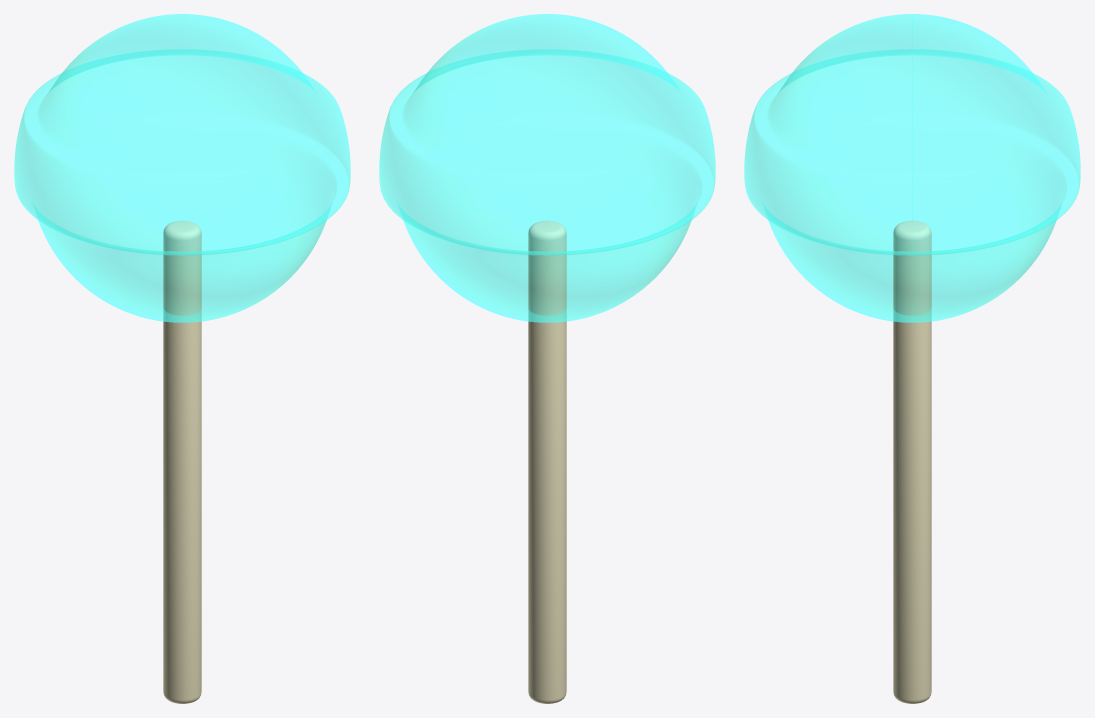
File: Lolly.fbx
3 renders of one model, left to right at view 1: azimuth 30°, elevation 25°; view 2: azimuth 150°, elevation 25°; view 3: azimuth 270°, elevation 25°, orthographic.
Visible parts, largest first — view 1: Kugel, Zylinder; view 2: Kugel, Zylinder; view 3: Kugel, Zylinder.
Part boxes in pixels (left/top/right/bottom): Kugel: left=14, top=14, right=350, bottom=322; Zylinder: left=163, top=220, right=201, bottom=703; Kugel: left=379, top=14, right=715, bottom=322; Zylinder: left=528, top=220, right=566, bottom=703; Kugel: left=744, top=14, right=1080, bottom=322; Zylinder: left=893, top=220, right=931, bottom=703.
Size of the model in its own units: 96.97 by 213 by 96.97.
